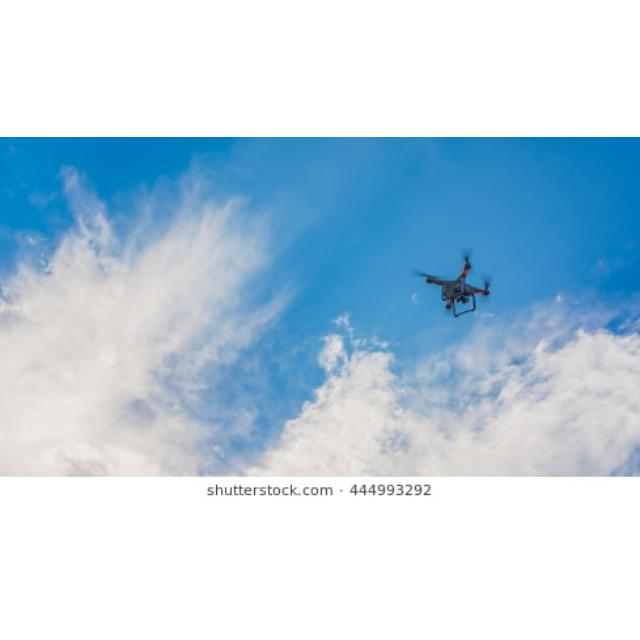Drones: (419, 255, 495, 318)
